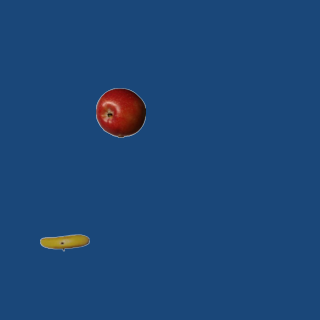Apple Braeburn: (95, 87, 145, 137)
Banana: (39, 217, 89, 267)
